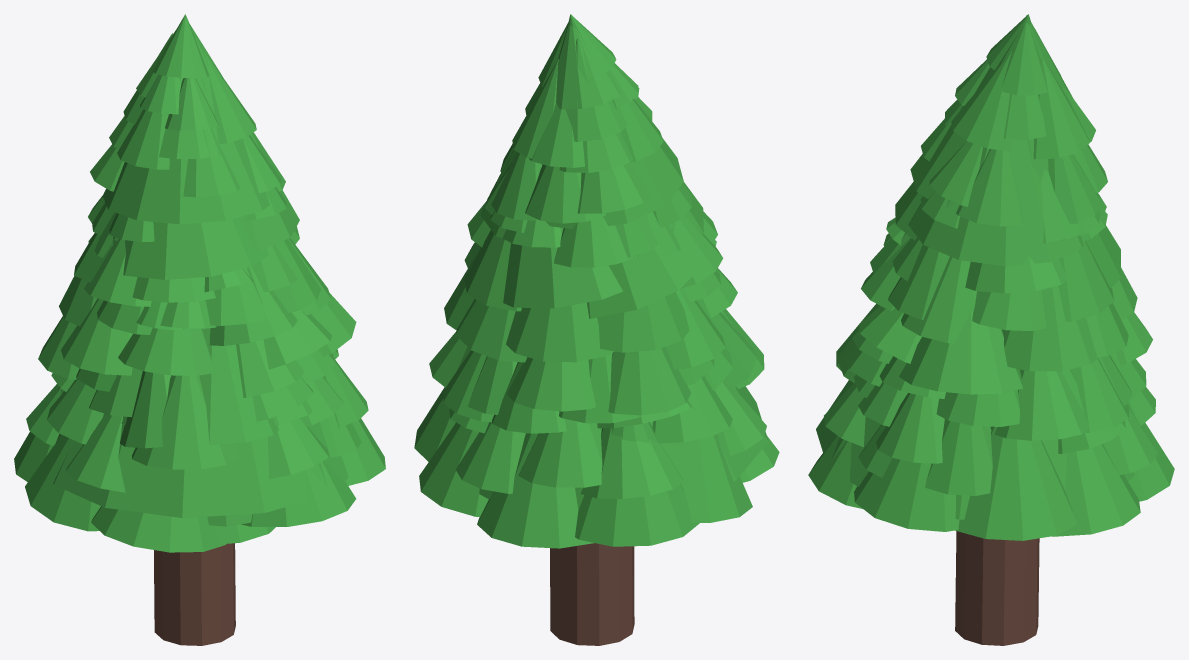
Rendered from tree.obj.
3 views of the same model, side by side, from view 1: azimuth 30°, elevation 25°; view 2: azimuth 150°, elevation 25°; view 3: azimuth 270°, elevation 25° (orthographic). The views are drawn at different scales.
Visible parts, largest first — view 1: group795721793, group1182110207, group1060327974, group215269883, group479351367, group1691032474, group1441435996, group2032844076, group1309042913, group779185186, group1420449495, group289331750 (+43 smaller); view 2: group1182110207, group1117119840, group673304671, group755935675, group1795256330, group1487708140, group857338554, group2107653222, group1309042913, group1731123254, group651962145, group995957311 (+41 smaller); view 3: group1182110207, group1503578798, group938967263, group5300124, group169532006, group831396060, group1748564994, group1885758204, group427771904, group1981027795, group646125289, group168475332 (+40 smaller).
Part boxes in pixels (x1=…): group795721793: x1=53, y1=413, x2=348, y2=517; group1182110207: x1=154, y1=543, x2=235, y2=645; group1060327974: x1=102, y1=77, x2=278, y2=224; group215269883: x1=112, y1=217, x2=268, y2=279; group479351367: x1=132, y1=375, x2=239, y2=469; group1691032474: x1=199, y1=328, x2=278, y2=444; group1441435996: x1=91, y1=506, x2=226, y2=552; group2032844076: x1=118, y1=328, x2=213, y2=375; group1309042913: x1=25, y1=435, x2=100, y2=531; group779185186: x1=241, y1=460, x2=356, y2=526; group1420449495: x1=61, y1=298, x2=132, y2=375; group289331750: x1=65, y1=414, x2=125, y2=492; group1182110207: x1=550, y1=543, x2=634, y2=645; group1117119840: x1=575, y1=422, x2=699, y2=546; group673304671: x1=477, y1=433, x2=593, y2=548; group755935675: x1=503, y1=227, x2=622, y2=308; group1795256330: x1=506, y1=302, x2=614, y2=362; group1487708140: x1=608, y1=346, x2=691, y2=415; group857338554: x1=518, y1=419, x2=602, y2=487; group2107653222: x1=580, y1=428, x2=683, y2=498; group1309042913: x1=681, y1=434, x2=752, y2=522; group1731123254: x1=587, y1=231, x2=696, y2=318; group651962145: x1=507, y1=357, x2=595, y2=411; group995957311: x1=597, y1=255, x2=689, y2=352; group1182110207: x1=955, y1=531, x2=1039, y2=645; group1503578798: x1=955, y1=426, x2=1076, y2=540; group938967263: x1=908, y1=139, x2=1085, y2=266; group5300124: x1=899, y1=310, x2=1023, y2=394; group169532006: x1=854, y1=458, x2=959, y2=531; group831396060: x1=1052, y1=444, x2=1140, y2=536; group1748564994: x1=1002, y1=285, x2=1098, y2=371; group1885758204: x1=994, y1=369, x2=1089, y2=440; group427771904: x1=925, y1=419, x2=992, y2=495; group1981027795: x1=876, y1=393, x2=944, y2=463; group646125289: x1=956, y1=149, x2=1024, y2=226; group168475332: x1=951, y1=50, x2=1021, y2=151.
Size of the model in its own units: 0.4777 by 0.8881 by 0.4777.
